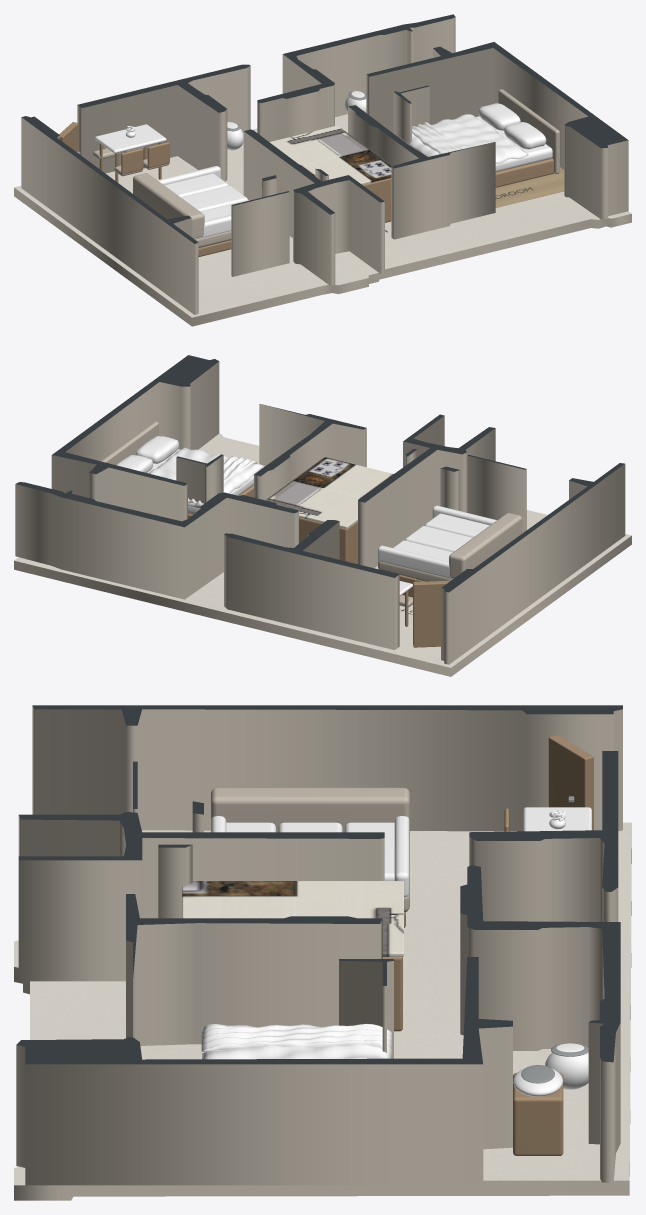
File: carina-vega-unit-04.glb
3 views of the same model, one above another, from view 1: azimuth 30°, elevation 25°; view 2: azimuth 150°, elevation 25°; view 3: azimuth 270°, elevation 25° (orthographic). The views are drawn at different scales.
Parts seen in each view (by area): view 1: Partition walls, Apartment floor, Stone worktop, Draped bed linen, Sofa back, Upholstered headboard, Marble dining top, Seat cushion.001, Walnut upholstered base, Seat cushion.002, Piped mattress, Draped bed linen.001 (+7 smaller); view 2: Partition walls, Apartment floor, Stone worktop, Sofa back, Open oak door, Draped bed linen, Padded armrest.001, Kitchen cabinets, Seat cushion.001, Seat cushion, Upholstered headboard, Tailored pillow (+4 smaller); view 3: Partition walls, Apartment floor, Stone worktop, Sofa back, Draped bed linen.001, Vanity cabinet, Open oak door, Draped bed linen, Marble dining top, Vitreous china bowl, Padded armrest.001, Seat cushion.002 (+3 smaller).
Part boxes in pixels (x1,y1,x2,y2): Partition walls: (21,14,628,314); Apartment floor: (14,114,631,326); Stone worktop: (269,125,392,184); Draped bed linen: (396,114,528,163); Sofa back: (133,173,204,238); Upholstered headboard: (498,89,559,173); Marble dining top: (95,124,166,153); Seat cushion.001: (181,186,247,211); Walnut upholstered base: (495,158,554,187); Seat cushion.002: (165,173,228,197); Piped mattress: (476,116,552,172); Draped bed linen.001: (412,122,463,154); Partition walls: (15,355,625,664); Apartment floor: (14,433,631,676); Stone worktop: (265,457,393,528); Sofa back: (449,513,521,577); Open oak door: (413,580,450,647); Draped bed linen: (148,447,264,505); Padded armrest.001: (378,545,453,578); Kitchen cabinets: (299,517,357,564); Seat cushion.001: (405,526,472,552); Seat cushion: (425,513,489,537); Upholstered headboard: (101,421,158,464); Tailored pillow: (136,436,178,463); Partition walls: (16,705,622,1185); Apartment floor: (14,822,631,1200); Stone worktop: (182,881,403,956); Sofa back: (211,787,409,833); Draped bed linen.001: (201,1023,391,1055); Vanity cabinet: (513,1072,563,1155); Open oak door: (548,735,593,830); Draped bed linen: (202,1024,391,1059); Marble dining top: (523,807,591,831); Vitreous china bowl: (545,1052,588,1089); Padded armrest.001: (394,816,409,896); Seat cushion.002: (344,822,394,880).
Bounding box in the file's own units: 8.23 × 1.44 × 5.92.
12 materials, 2 textured.
